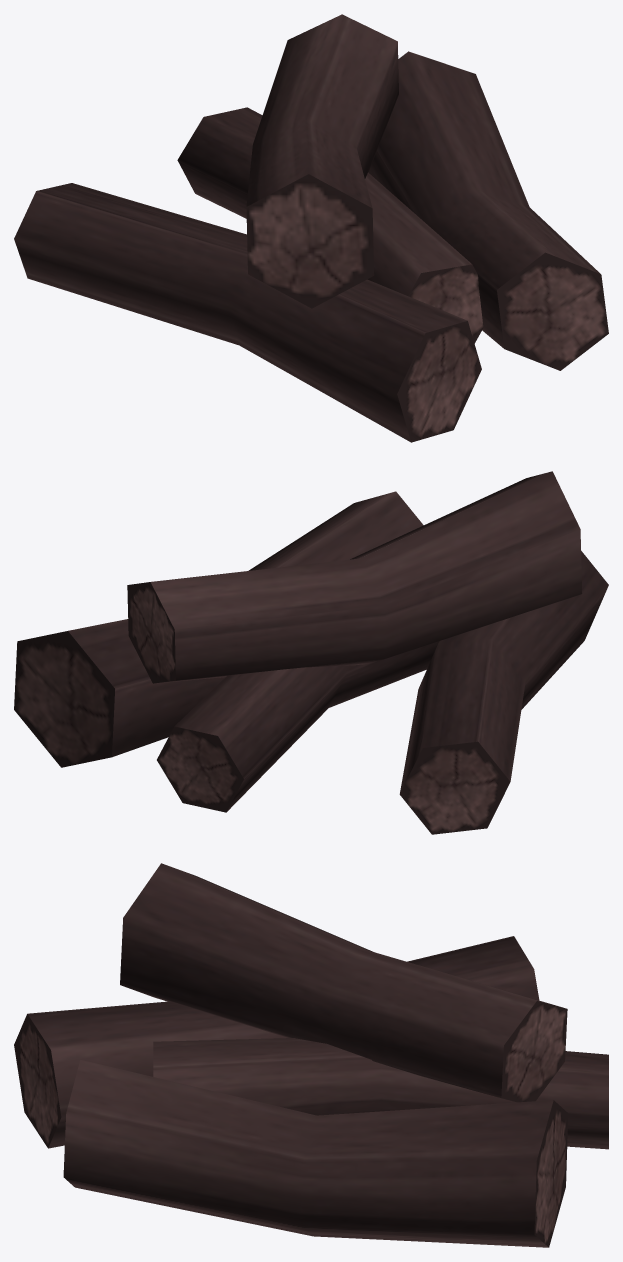
File: Log_stack_D.fbx
3 renders of one model, top to bottom at view 1: azimuth 30°, elevation 25°; view 2: azimuth 150°, elevation 25°; view 3: azimuth 270°, elevation 25°, orthographic.
Parts seen in each view (by area): view 1: Log_stack_D; view 2: Log_stack_D; view 3: Log_stack_D.
Part boxes in pixels (x1,y1,x2,y2): Log_stack_D: [14, 14, 608, 442]; Log_stack_D: [14, 471, 608, 834]; Log_stack_D: [14, 863, 608, 1247].
Bounding box in the file's own units: 0.152 × 0.0739 × 0.1597.
